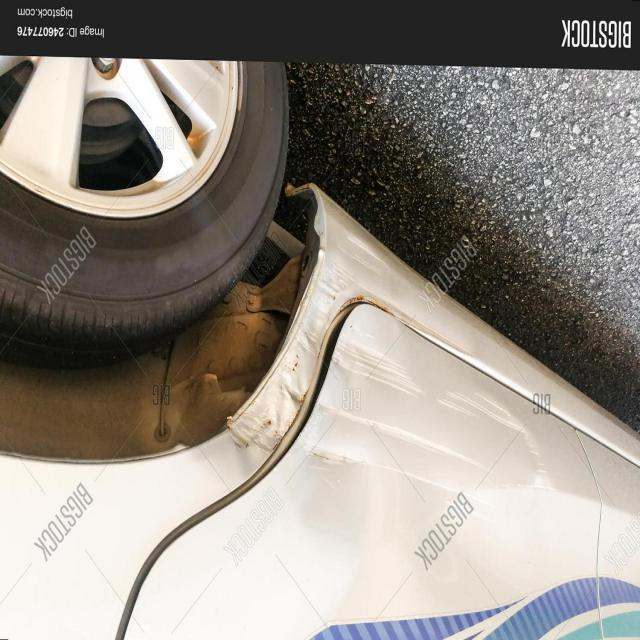dent: (188, 251, 372, 477)
